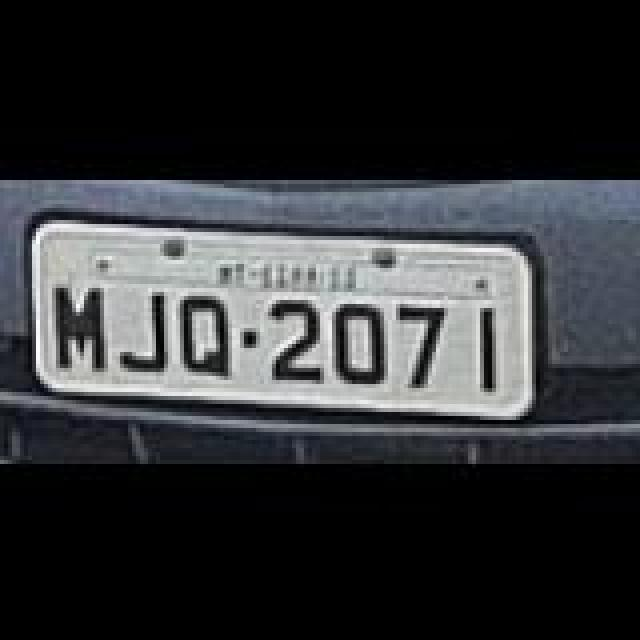1: (482, 306, 502, 390)
2: (266, 298, 326, 382)
7: (398, 302, 450, 386)
D: (332, 298, 388, 382)
J: (116, 286, 172, 370)
M: (58, 280, 110, 368)
Q: (182, 290, 234, 374)
